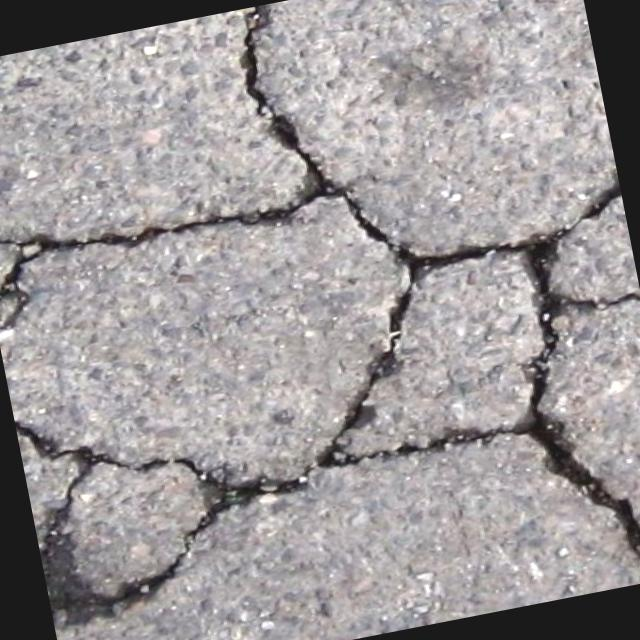crack: (34, 462, 333, 630), (222, 0, 383, 265), (483, 179, 640, 405), (500, 380, 640, 603), (16, 386, 224, 525), (306, 282, 442, 438), (19, 190, 264, 274), (308, 409, 504, 479), (0, 59, 44, 331), (381, 212, 494, 286)
